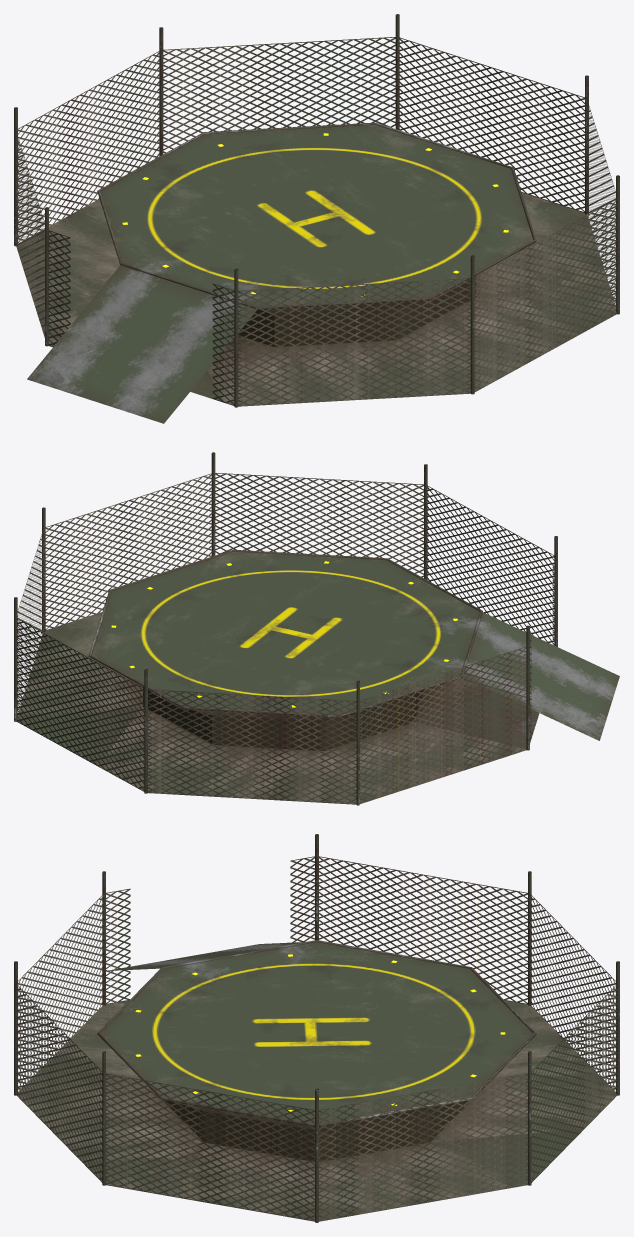
The model's file is heliport_helipad_air_base_helicopter.glb.
The picture shows the model from 3 angles, top to bottom: view 1: azimuth 30°, elevation 25°; view 2: azimuth 150°, elevation 25°; view 3: azimuth 270°, elevation 25°; orthographic projection. The views are drawn at different scales.
Visible parts, largest first — view 1: Object_2; view 2: Object_2; view 3: Object_2.
Boxes of the visible parts, <box> form: Object_2: <box>14,14,619,423</box>; Object_2: <box>14,452,619,805</box>; Object_2: <box>14,834,619,1222</box>.
Size of the model in its own units: 1351 by 300 by 1241.
1 material, 1 textured.
